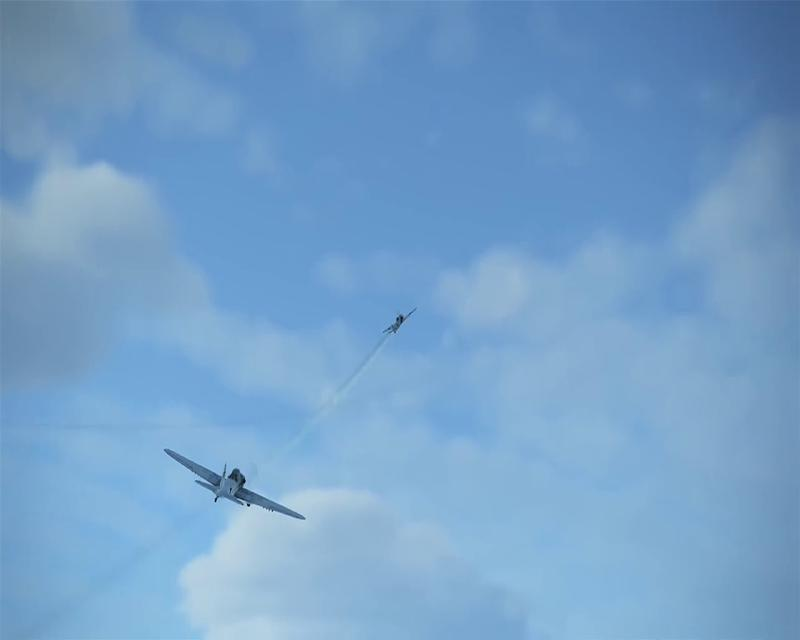UAV: (162, 448, 304, 520), (383, 308, 416, 334)
